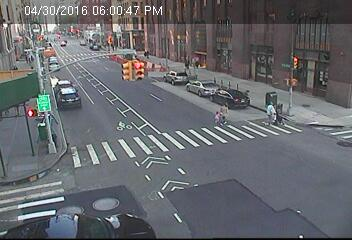neg: (63, 138, 84, 166), (63, 58, 81, 82), (69, 93, 83, 111), (135, 141, 145, 154), (90, 44, 99, 56), (83, 39, 88, 46), (58, 37, 63, 44)
pos: (260, 98, 283, 129), (212, 98, 234, 128), (204, 106, 225, 134), (179, 54, 196, 76), (192, 59, 203, 73), (21, 51, 31, 64), (142, 48, 151, 61), (28, 53, 36, 64)
